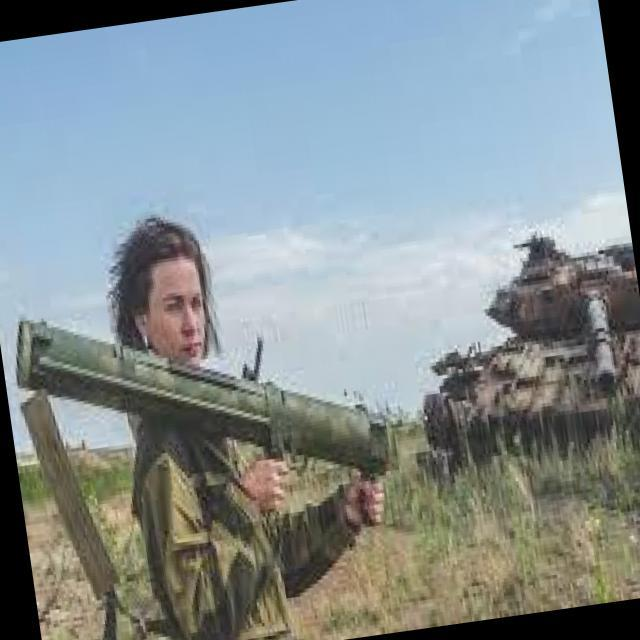rocket: (8, 266, 398, 528)
